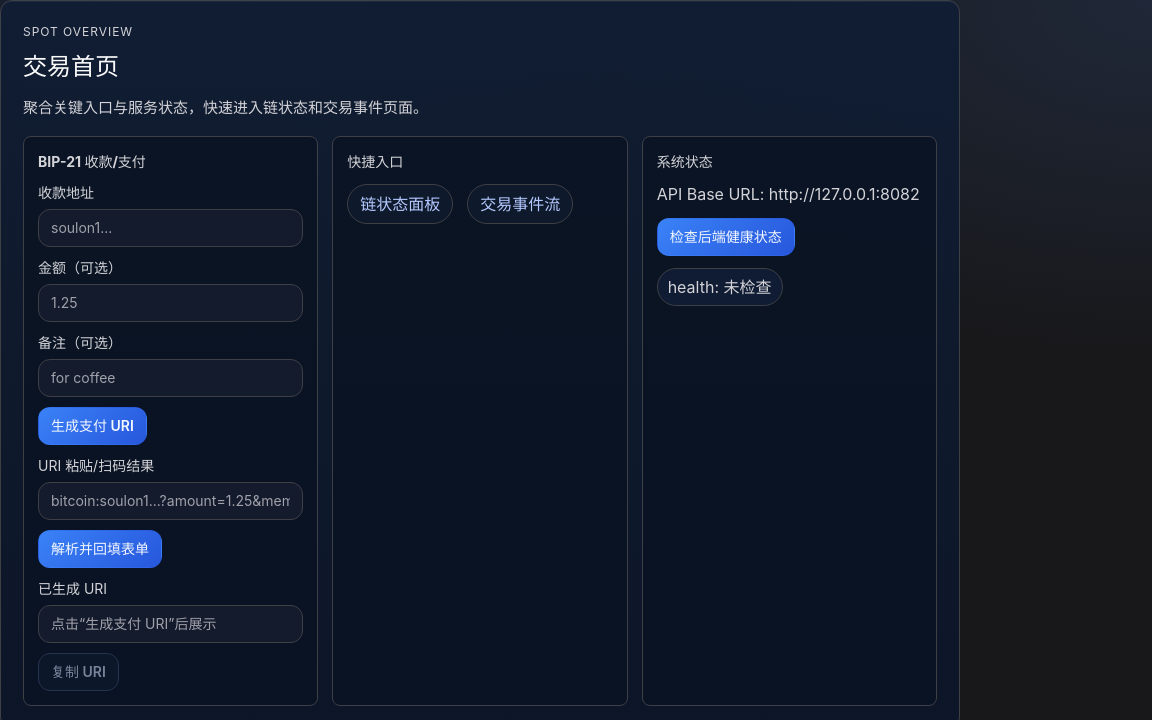
HomePage › 可解析 URI 并回填到手动输入表单
In the field labelled "URI 粘贴/扫码结果": (171, 500) x1=38 y1=482 x2=303 y2=520, type "bitcoin:soulon1parsed?amount=3.5&memo=coffee"
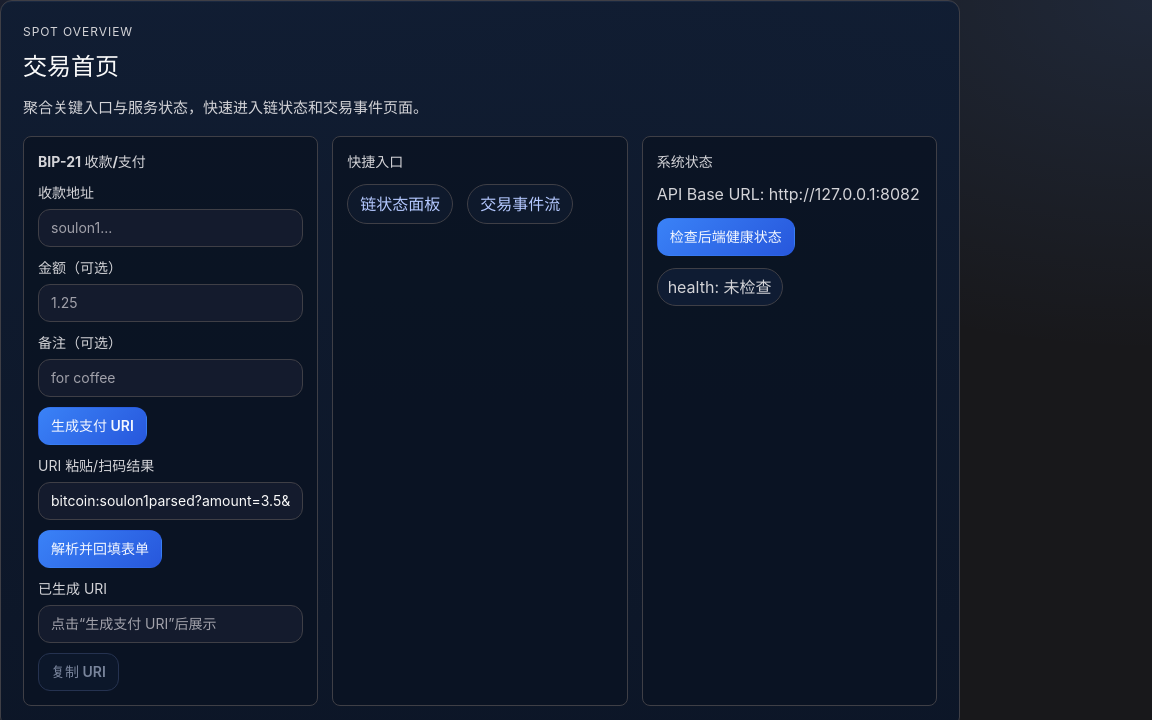
Click the button "解析并回填表单": (100, 548) x1=38 y1=530 x2=162 y2=568
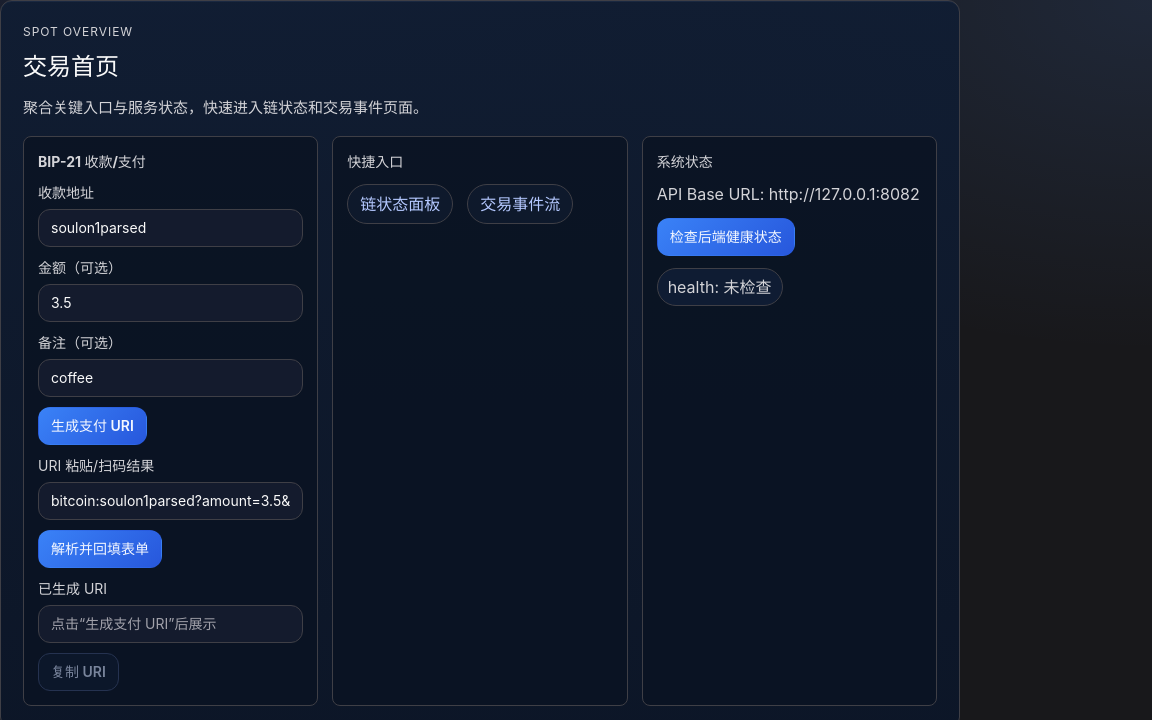
Expected: the field labelled "收款地址" holds "soulon1parsed", x1=38 y1=208 x2=303 y2=246
Expected: the field labelled "金额（可选）" holds "3.5", x1=38 y1=284 x2=303 y2=322
Expected: the field labelled "备注（可选）" holds "coffee", x1=38 y1=358 x2=303 y2=396
